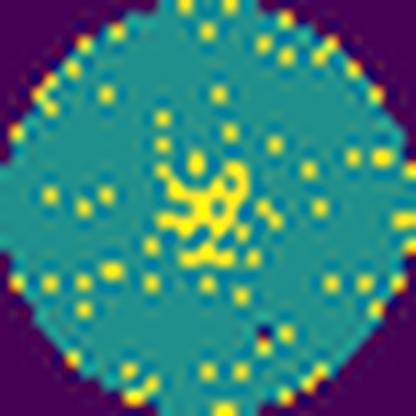Center: (151, 157, 253, 271)
